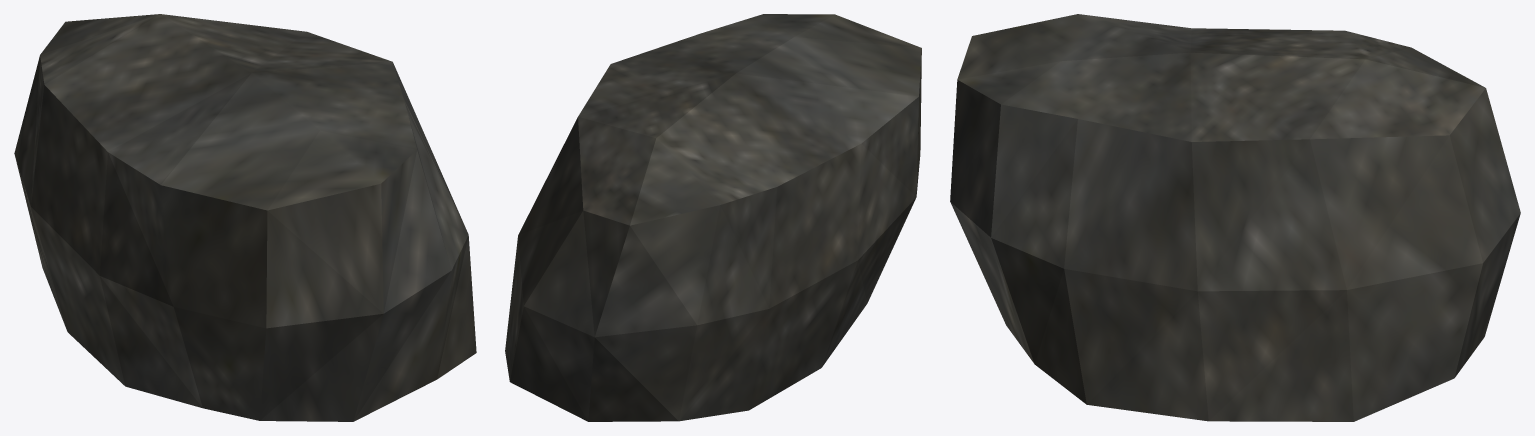
The model's file is Rock02b.obj.
3 views of the same model, side by side, from view 1: azimuth 30°, elevation 25°; view 2: azimuth 150°, elevation 25°; view 3: azimuth 270°, elevation 25° (orthographic). The views are drawn at different scales.
Visible parts, largest first — view 1: Rock02; view 2: Rock02; view 3: Rock02.
Boxes of the visible parts, left/top/right/bottom form: Rock02: left=14, top=14, right=476, bottom=421; Rock02: left=505, top=14, right=921, bottom=421; Rock02: left=950, top=14, right=1520, bottom=421.
Bounding box in the file's own units: 1.45 × 1.31 × 2.21.
